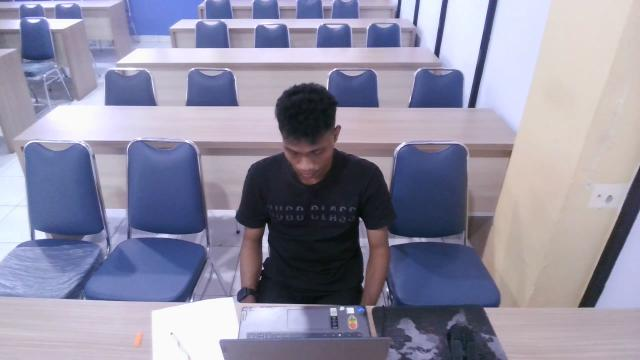Head_Down_Extreme: (221, 76, 397, 265)
